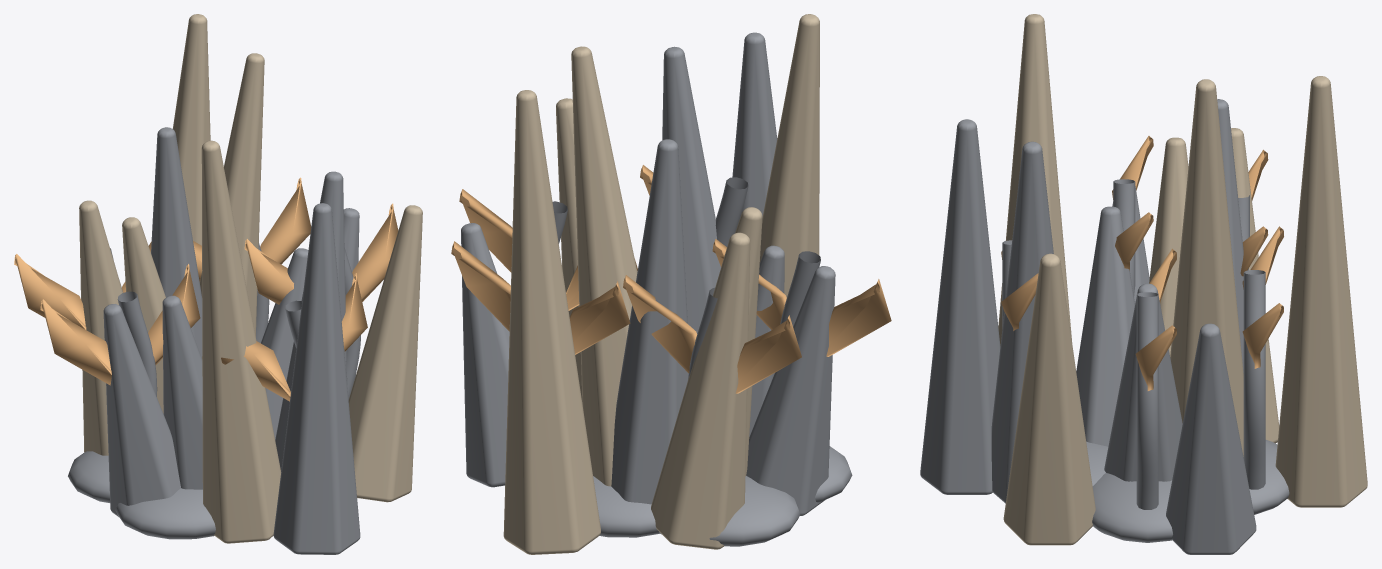
Rendered from bio_crystal_fan_22_near.glb.
3 renders of one model, left to right at view 1: azimuth 30°, elevation 25°; view 2: azimuth 150°, elevation 25°; view 3: azimuth 270°, elevation 25°, orthographic. The views are drawn at different scales.
Parts seen in each view (by area): view 1: Reflecting mineral prism.007, Reflecting mineral prism.002, Reflecting mineral prism.005, Reflecting mineral prism.004, Reflecting mineral prism.003, Reflecting mineral prism.012, Reflecting mineral prism.001, Reflecting mineral prism.006, Reflecting mineral prism.011, Mineral substrate, Secondary fan lobe.008, Secondary fan lobe (+10 smaller); view 2: Reflecting mineral prism.011, Reflecting mineral prism.001, Reflecting mineral prism.006, Reflecting mineral prism.003, Reflecting mineral prism.004, Reflecting mineral prism.007, Reflecting mineral prism.008, Reflecting mineral prism.010, Mineral substrate, Reflecting mineral prism.002, Secondary fan lobe.002, Secondary fan lobe.006 (+8 smaller); view 3: Reflecting mineral prism.011, Reflecting mineral prism.002, Reflecting mineral prism.005, Reflecting mineral prism.003, Reflecting mineral prism.008, Reflecting mineral prism.010, Reflecting mineral prism.012, Reflecting mineral prism.007, Mineral substrate, Reflecting mineral prism, Branching support, Branching support.003 (+10 smaller).
Part boxes in pixels (x1,y1,x2,y2): Reflecting mineral prism.007: (201, 140, 281, 543); Reflecting mineral prism.002: (273, 203, 360, 554); Reflecting mineral prism.005: (348, 205, 422, 502); Reflecting mineral prism.004: (103, 304, 180, 516); Reflecting mineral prism.003: (199, 53, 264, 358); Reflecting mineral prism.012: (162, 295, 202, 489); Reflecting mineral prism.001: (79, 200, 122, 455); Reflecting mineral prism.006: (151, 127, 202, 357); Reflecting mineral prism.011: (172, 14, 210, 245); Mineral substrate: (68, 451, 215, 539); Secondary fan lobe.008: (40, 264, 200, 385); Secondary fan lobe: (244, 203, 398, 304); Reflecting mineral prism.011: (503, 90, 600, 554); Reflecting mineral prism.001: (651, 232, 750, 549); Reflecting mineral prism.006: (611, 139, 688, 504); Reflecting mineral prism.003: (571, 46, 637, 486); Reflecting mineral prism.004: (746, 266, 835, 515); Reflecting mineral prism.007: (759, 14, 819, 297); Reflecting mineral prism.008: (461, 223, 509, 487); Reflecting mineral prism.010: (662, 46, 720, 333); Mineral substrate: (593, 446, 852, 546); Reflecting mineral prism.002: (732, 32, 777, 215); Secondary fan lobe.002: (623, 275, 801, 393); Secondary fan lobe.006: (451, 241, 630, 354); Reflecting mineral prism.011: (1275, 76, 1367, 507); Reflecting mineral prism.002: (920, 119, 1000, 494); Reflecting mineral prism.005: (1003, 253, 1095, 545); Reflecting mineral prism.003: (1170, 79, 1243, 456); Reflecting mineral prism.008: (1166, 323, 1256, 554); Reflecting mineral prism.010: (991, 141, 1053, 503); Reflecting mineral prism.012: (1076, 206, 1134, 446); Reflecting mineral prism.007: (998, 14, 1072, 345); Mineral substrate: (1086, 440, 1289, 542); Reflecting mineral prism: (1104, 283, 1182, 481); Branching support: (1136, 292, 1158, 509); Branching support.003: (1243, 270, 1265, 489).
Size of the model in its own units: 1.85 by 1.97 by 1.83.
